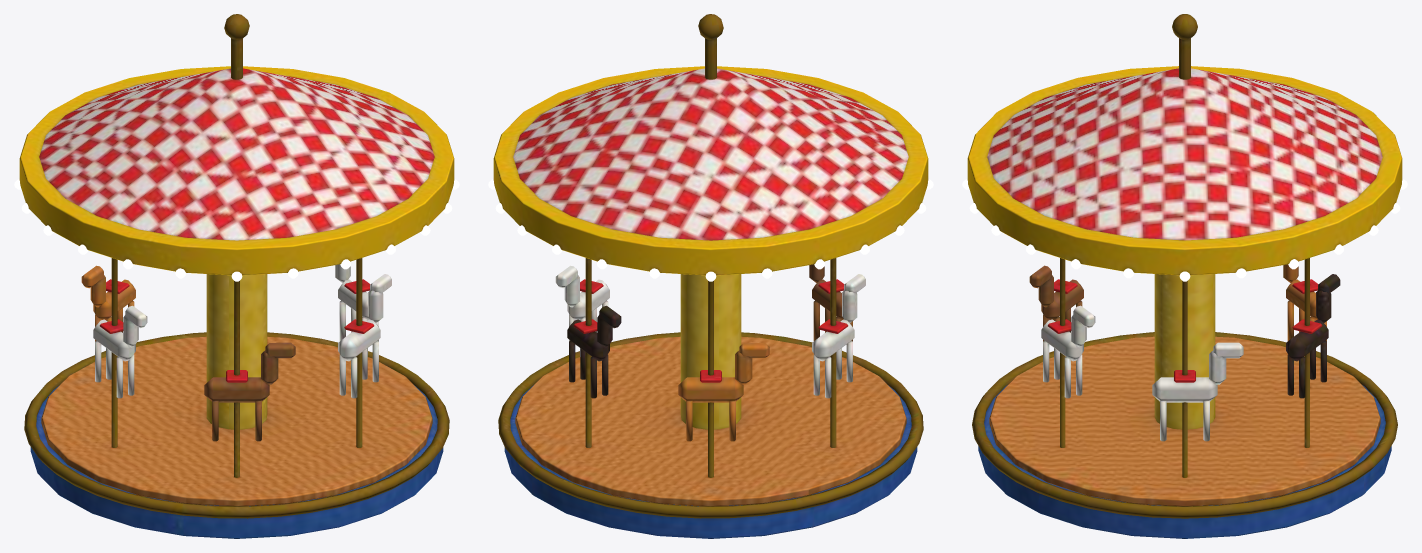
The model's file is carousel.glb.
3 renders of one model, left to right at view 1: azimuth 30°, elevation 25°; view 2: azimuth 150°, elevation 25°; view 3: azimuth 270°, elevation 25°, orthographic.
Parts seen in each view (by area): view 1: spinY_ride, carousel; view 2: spinY_ride, carousel; view 3: spinY_ride, carousel.
Part boxes in pixels (x1=…): spinY_ride: x1=14, y1=14, x2=459, y2=506; carousel: x1=24, y1=332, x2=449, y2=538; spinY_ride: x1=488, y1=14, x2=933, y2=506; carousel: x1=498, y1=332, x2=923, y2=538; spinY_ride: x1=962, y1=14, x2=1407, y2=506; carousel: x1=972, y1=332, x2=1397, y2=538.
Size of the model in its own units: 2.04 by 2.22 by 2.05.
1 material, 1 textured.
